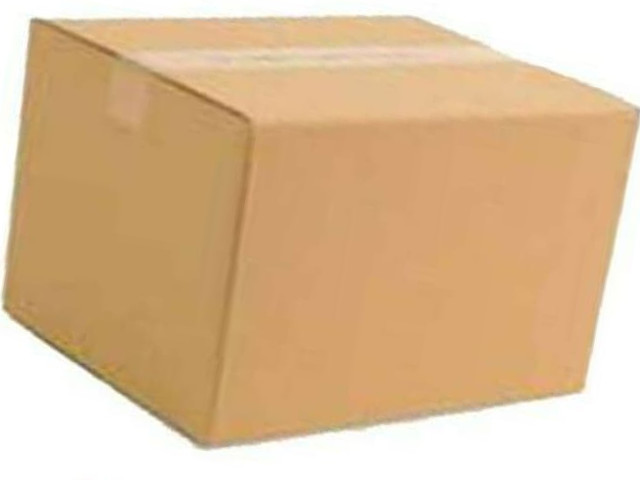cardboard: (3, 17, 637, 449)
